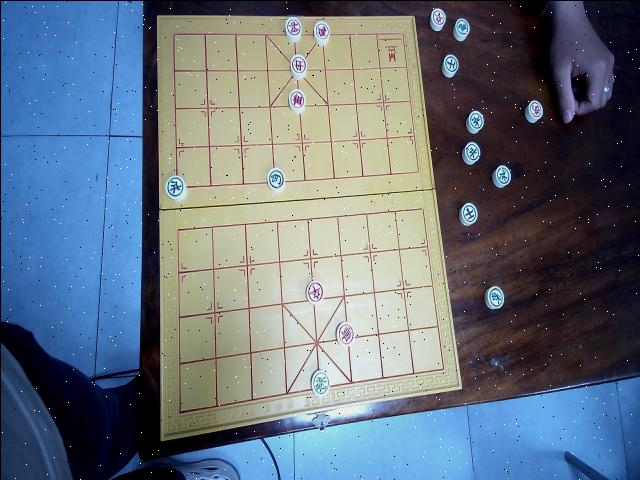piece: (166, 172, 186, 200), (484, 284, 504, 310), (310, 368, 330, 394), (284, 15, 302, 41), (312, 18, 330, 44), (336, 320, 354, 346), (288, 85, 305, 112), (428, 5, 446, 30), (452, 15, 470, 40), (492, 163, 510, 188), (289, 52, 307, 76), (305, 278, 323, 302), (466, 108, 484, 132), (524, 98, 542, 122), (462, 140, 480, 164), (267, 166, 285, 190), (459, 202, 478, 223), (442, 52, 458, 76)
